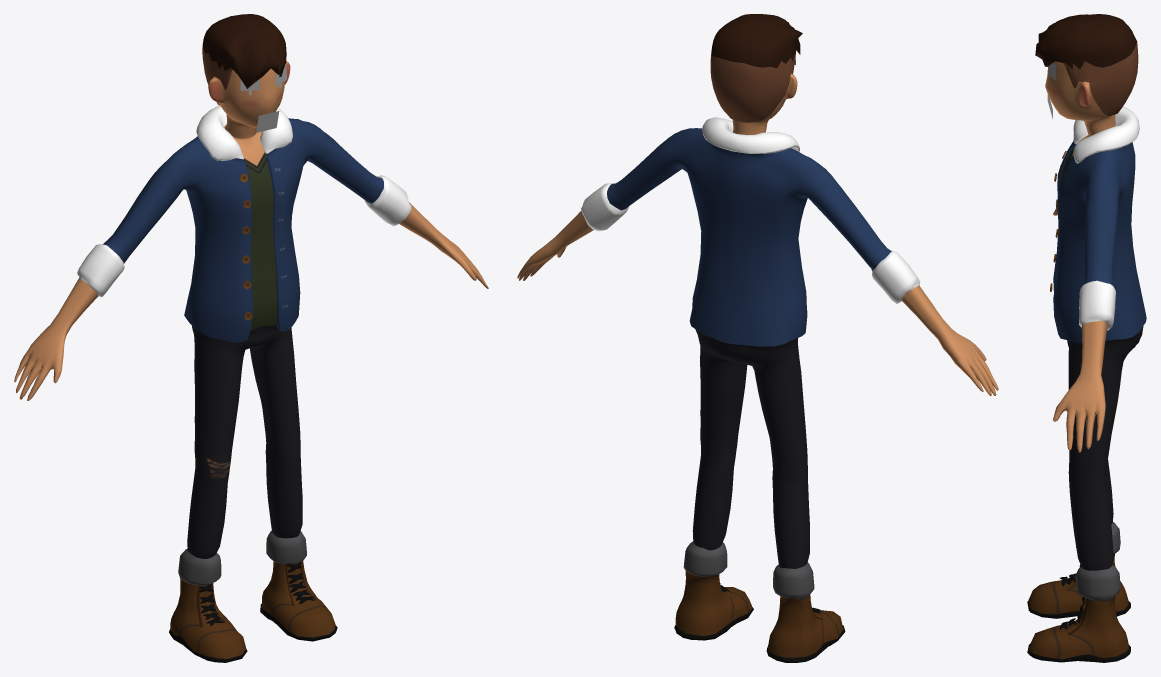
The model's file is jace5.fbx.
The picture shows the model from 3 angles, left to right: view 1: azimuth 30°, elevation 25°; view 2: azimuth 150°, elevation 25°; view 3: azimuth 270°, elevation 25°; orthographic projection.
Parts seen in each view (by area): view 1: polySurface73; view 2: polySurface73; view 3: polySurface73.
Part boxes in pixels (x1,y1,x2,y2): polySurface73: (14, 14, 488, 662); polySurface73: (517, 14, 998, 662); polySurface73: (1027, 14, 1146, 662).
Bounding box in the file's own units: 136 × 169 × 29.94.
